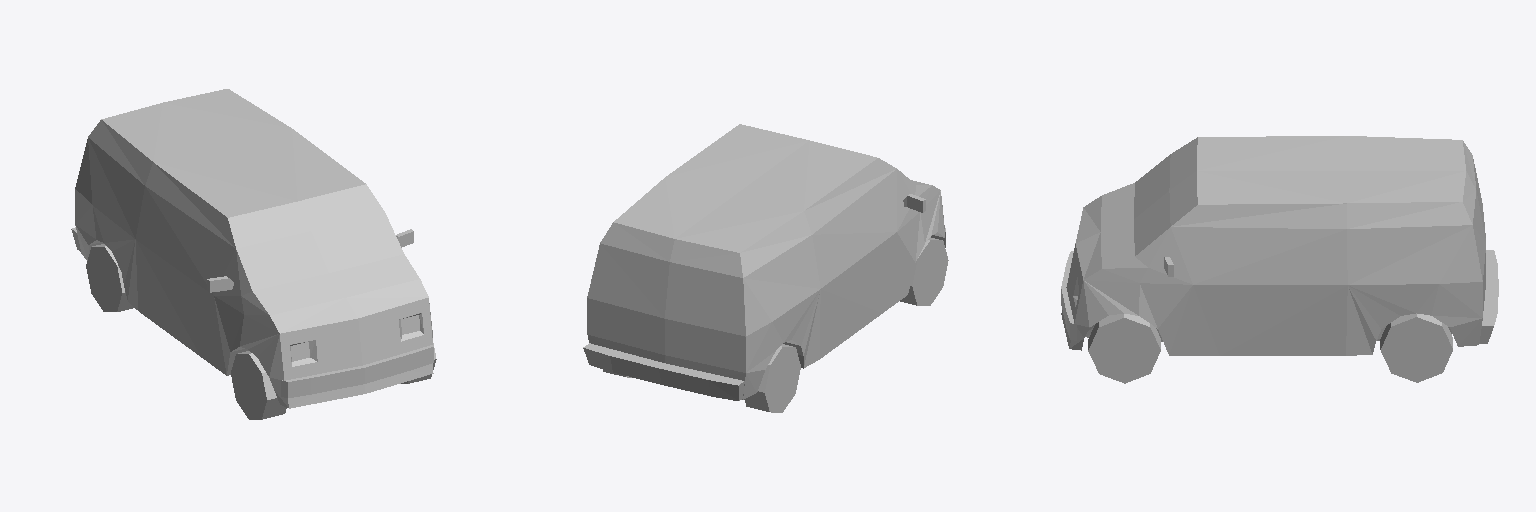
Rendered from car3.obj.
3 renders of one model, left to right at view 1: azimuth 30°, elevation 25°; view 2: azimuth 150°, elevation 25°; view 3: azimuth 270°, elevation 25°, orthographic.
Parts seen in each view (by area): view 1: Car4; view 2: Car4; view 3: Car4.
Boxes of the visible parts, box(x1,y1,x2,y2) form: Car4: box(71, 89, 436, 419); Car4: box(583, 124, 948, 412); Car4: box(1061, 136, 1498, 383).
Size of the model in its own units: 3.4 by 2.74 by 6.3.